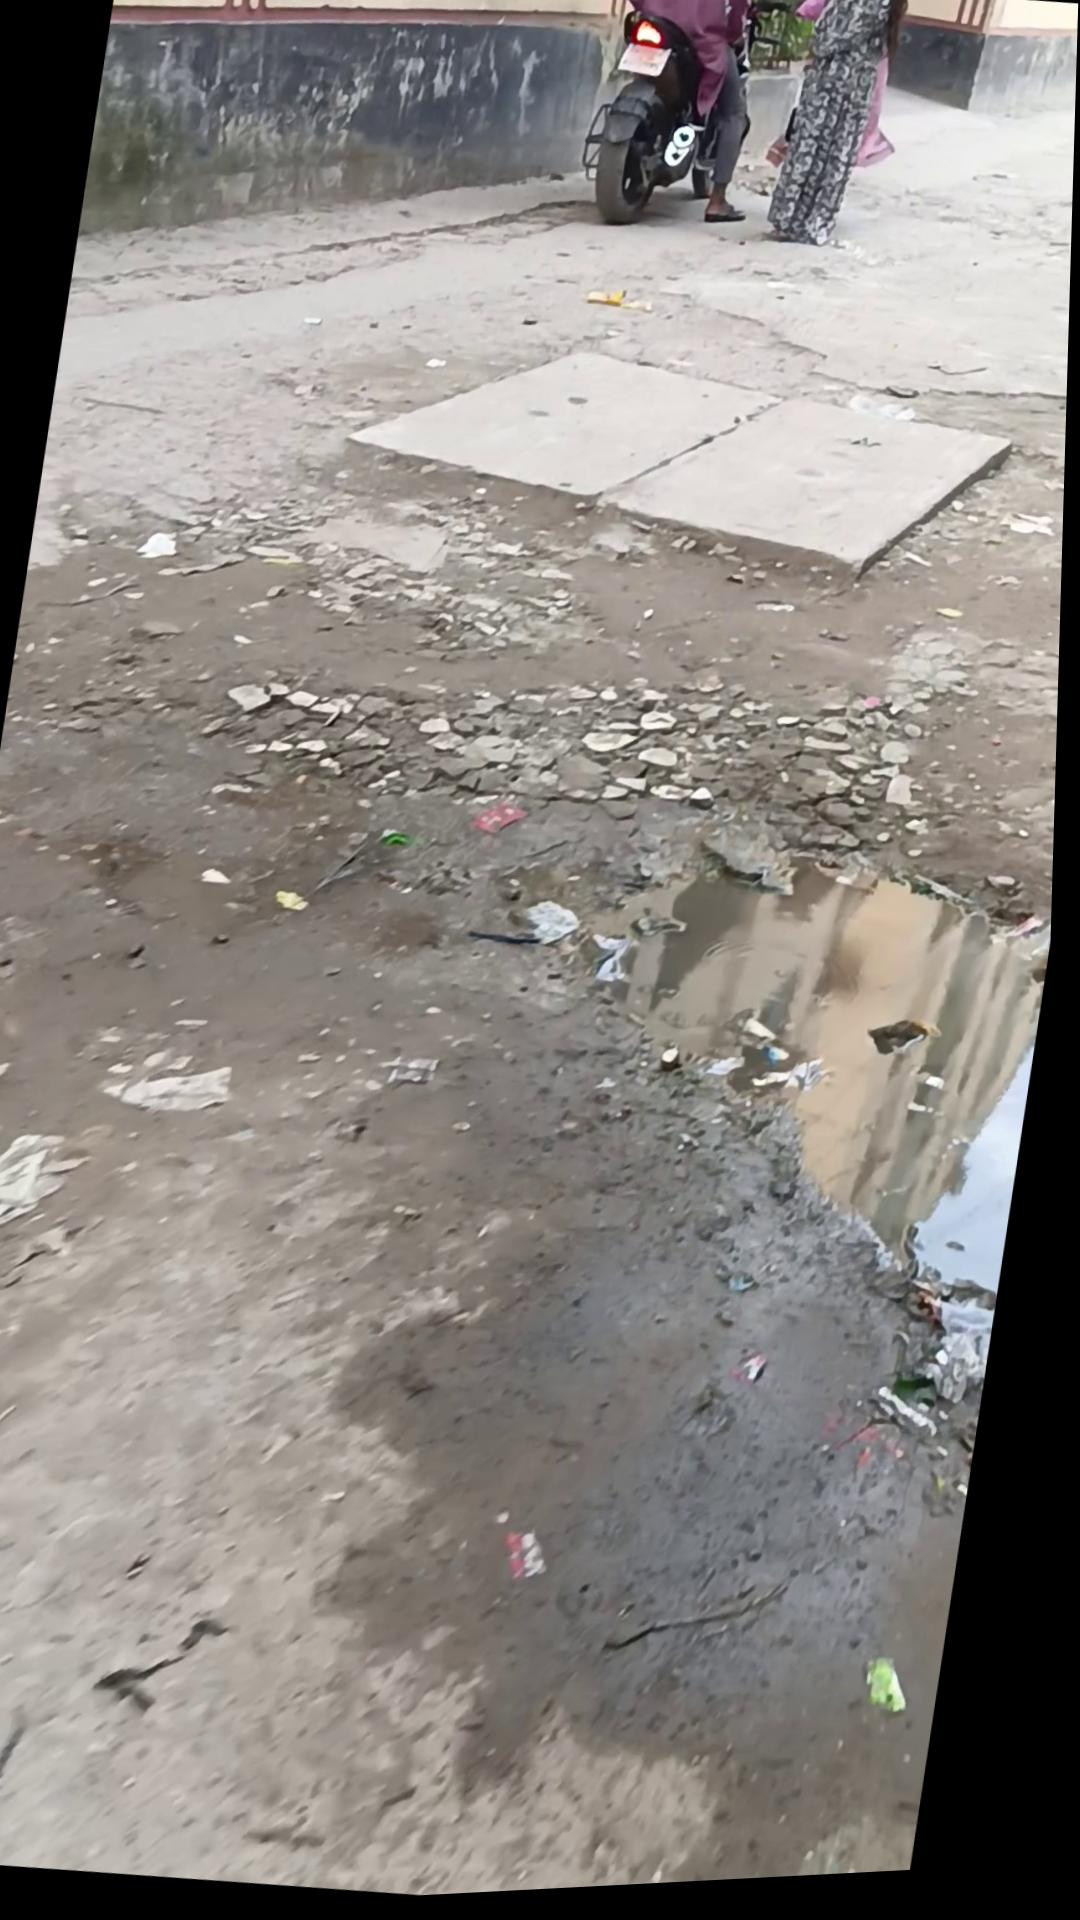Broken-road: (0, 13, 1079, 1920)
Crosswalk: (330, 306, 1027, 626)
Light-pole: (570, 0, 786, 249)
Railroad-crossing: (404, 673, 1063, 1443)
